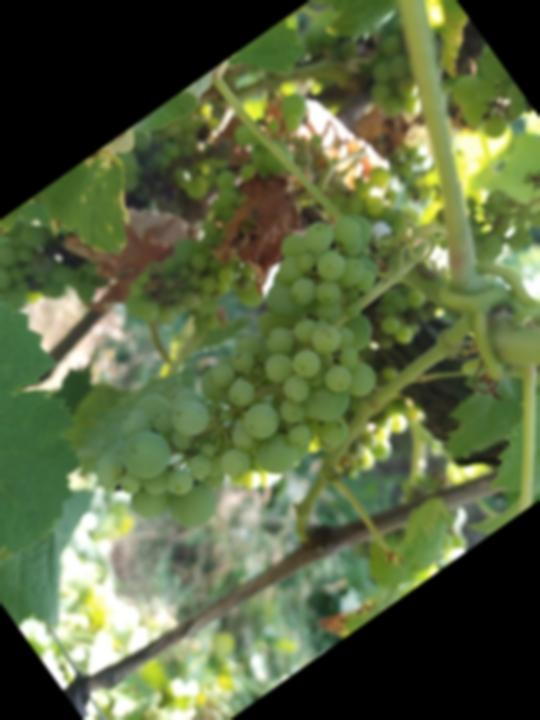grape: (40, 191, 464, 576)
